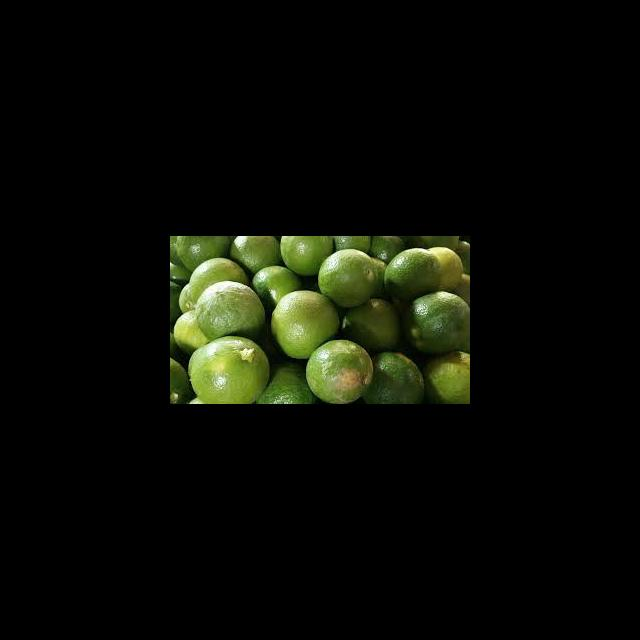lime: (180, 334, 273, 404), (267, 287, 345, 362), (193, 280, 268, 349), (305, 337, 375, 404), (311, 248, 382, 310), (405, 292, 470, 354), (253, 347, 320, 404), (359, 349, 427, 404), (385, 245, 446, 304), (342, 292, 403, 351), (186, 256, 250, 306), (419, 347, 470, 404), (228, 236, 286, 279), (278, 236, 339, 276), (171, 236, 235, 273), (249, 265, 304, 306), (422, 243, 466, 293), (171, 310, 215, 355)
